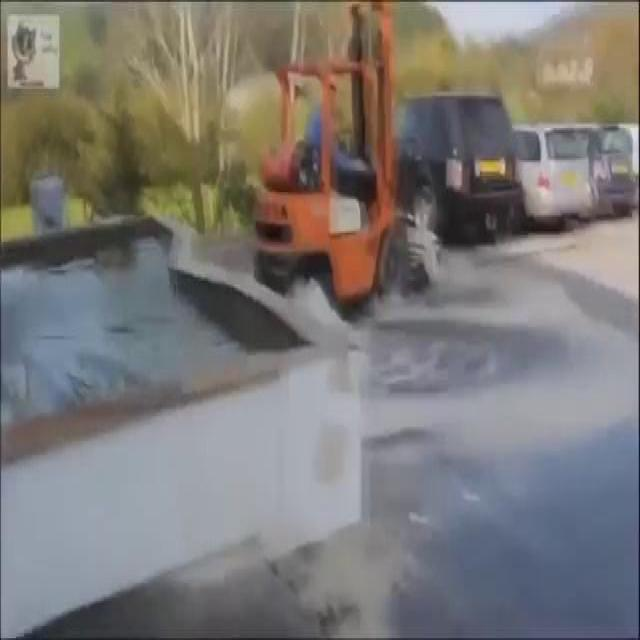forklift: (248, 0, 399, 322)
person: (294, 52, 379, 194)
